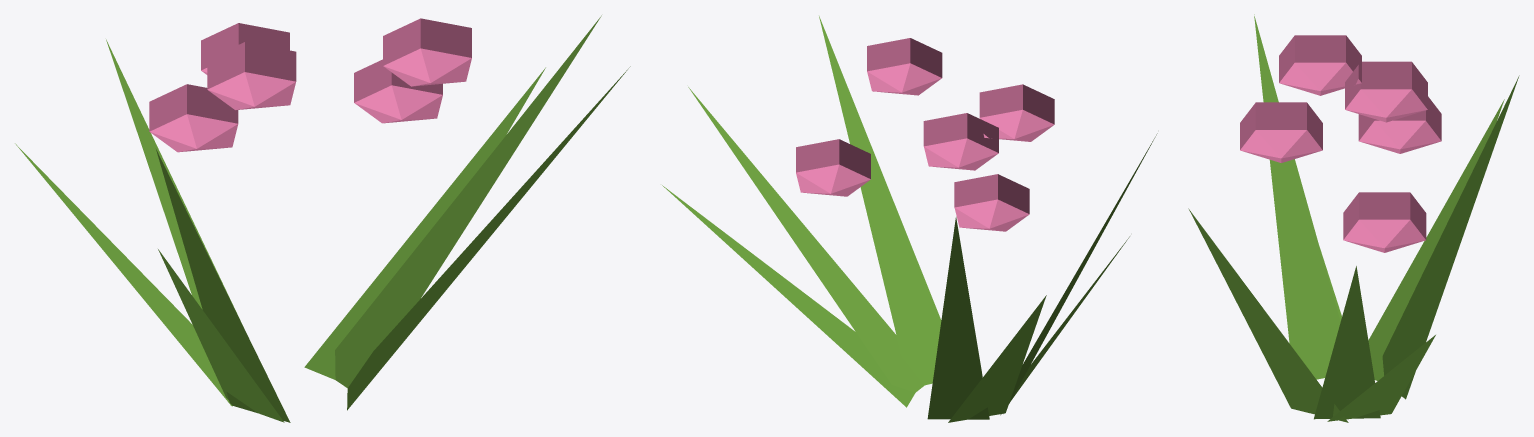
3 renders of one model, left to right at view 1: azimuth 30°, elevation 25°; view 2: azimuth 150°, elevation 25°; view 3: azimuth 270°, elevation 25°, orthographic. The views are drawn at different scales.
Parts seen in each view (by area): view 1: flowers-pink; view 2: flowers-pink; view 3: flowers-pink.
Boxes of the visible parts, x1=… form: flowers-pink: x1=15, y1=15, x2=630, y2=422; flowers-pink: x1=662, y1=16, x2=1157, y2=422; flowers-pink: x1=1188, y1=14, x2=1519, y2=422.
Size of the model in its own units: 0.6362 by 0.4464 by 0.395.
